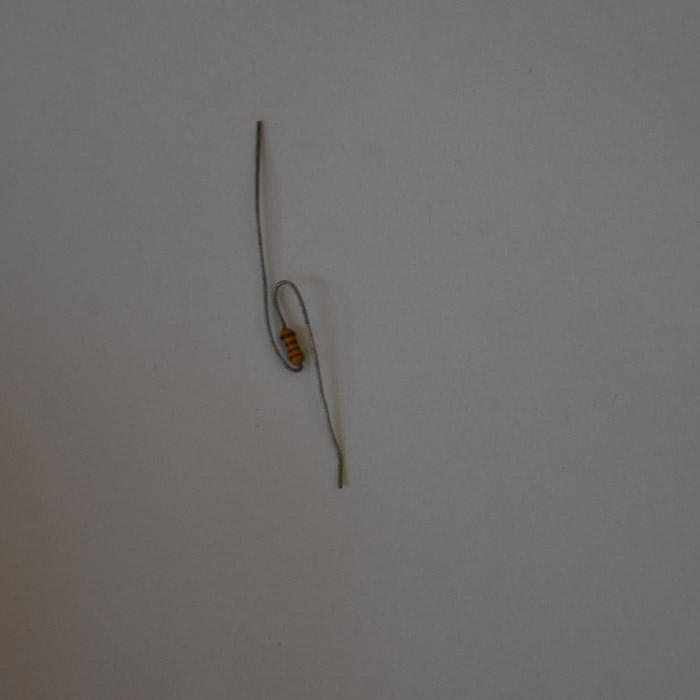resistor: (278, 326, 303, 368)
